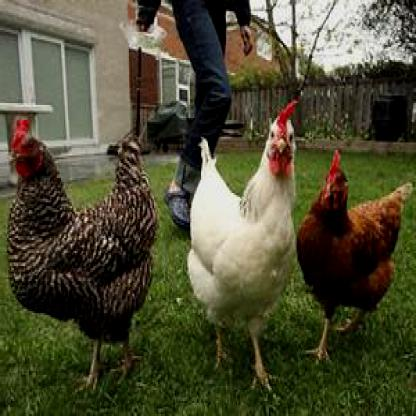chicken: (6, 118, 158, 388), (189, 98, 298, 398), (297, 150, 412, 363)
